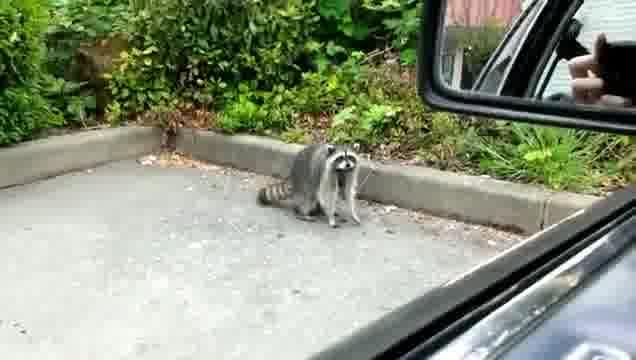raccoon: (253, 136, 368, 229)
